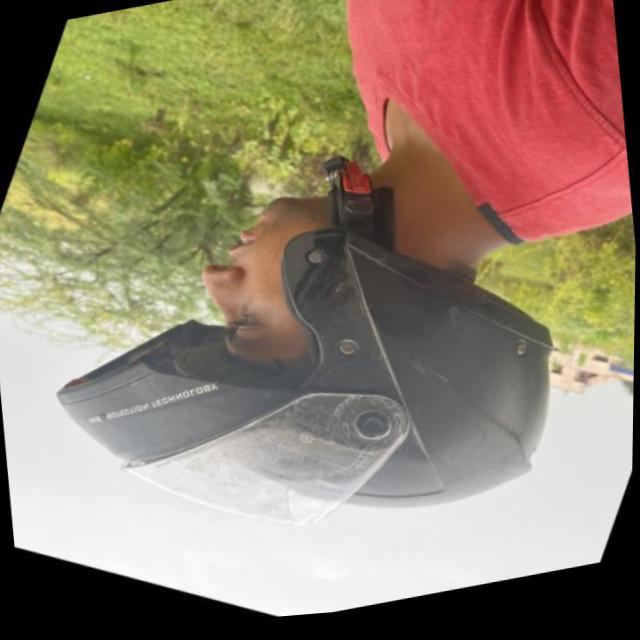WITH_HELMET: (0, 36, 639, 640)
